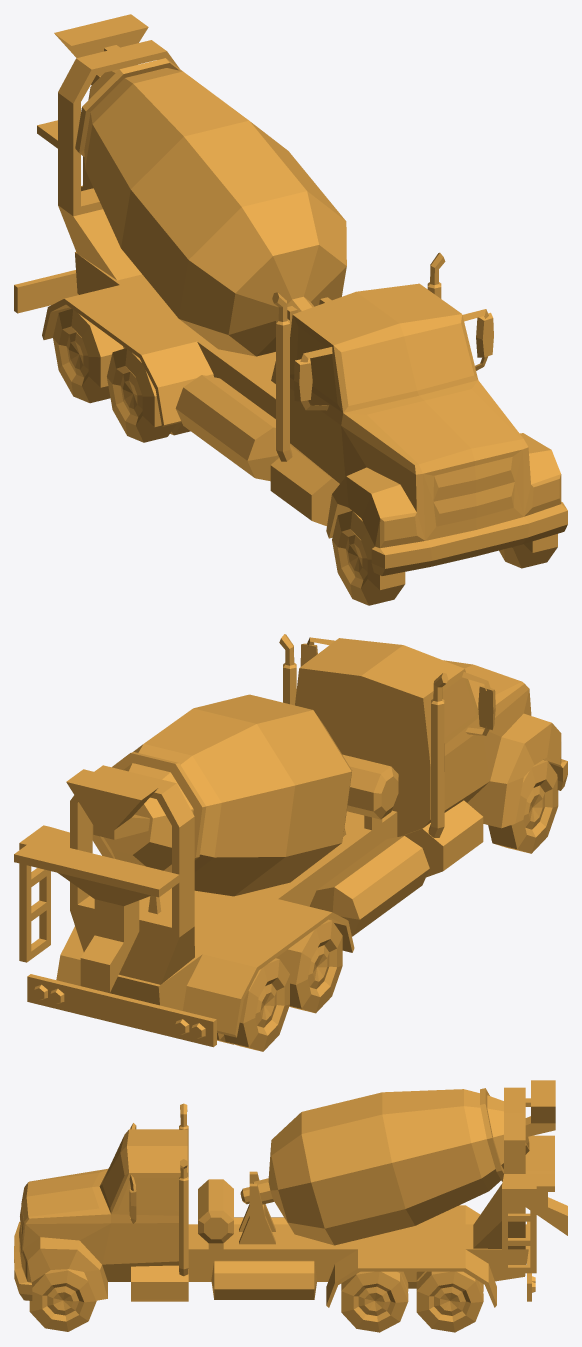
Rendered from car-truck-cement.glb.
The picture shows the model from 3 angles, top to bottom: view 1: azimuth 30°, elevation 25°; view 2: azimuth 150°, elevation 25°; view 3: azimuth 270°, elevation 25°; orthographic projection. The views are drawn at different scales.
Parts seen in each view (by area): view 1: car-truck-cement-base, car-truck-cement-mixer, car-truck-cement-wheel_BR2, car-truck-cement-wheel_BR1, car-truck-cement-wheel_FR, car-truck-cement-wheel_FL; view 2: car-truck-cement-base, car-truck-cement-mixer, car-truck-cement-wheel_BR1, car-truck-cement-wheel_BR2, car-truck-cement-wheel_FR; view 3: car-truck-cement-base, car-truck-cement-mixer, car-truck-cement-wheel_BL2, car-truck-cement-wheel_BL1, car-truck-cement-wheel_FL.
Part boxes in pixels (x1,y1,x2,y2): car-truck-cement-base: (14, 14, 567, 575); car-truck-cement-mixer: (75, 58, 346, 356); car-truck-cement-wheel_BR2: (53, 308, 125, 403); car-truck-cement-wheel_BR1: (107, 348, 190, 442); car-truck-cement-wheel_FR: (332, 511, 405, 605); car-truck-cement-wheel_FL: (499, 534, 557, 568); car-truck-cement-base: (14, 634, 567, 1047); car-truck-cement-mixer: (92, 694, 352, 896); car-truck-cement-wheel_BR1: (276, 919, 342, 1013); car-truck-cement-wheel_BR2: (217, 958, 289, 1051); car-truck-cement-wheel_FR: (488, 760, 558, 853); car-truck-cement-base: (14, 1080, 567, 1307); car-truck-cement-mixer: (240, 1088, 529, 1245); car-truck-cement-wheel_BL2: (416, 1271, 483, 1332); car-truck-cement-wheel_BL1: (341, 1271, 408, 1332); car-truck-cement-wheel_FL: (29, 1269, 96, 1331).
Bounding box in the file's own units: 2.59 × 3.7 × 8.93.
